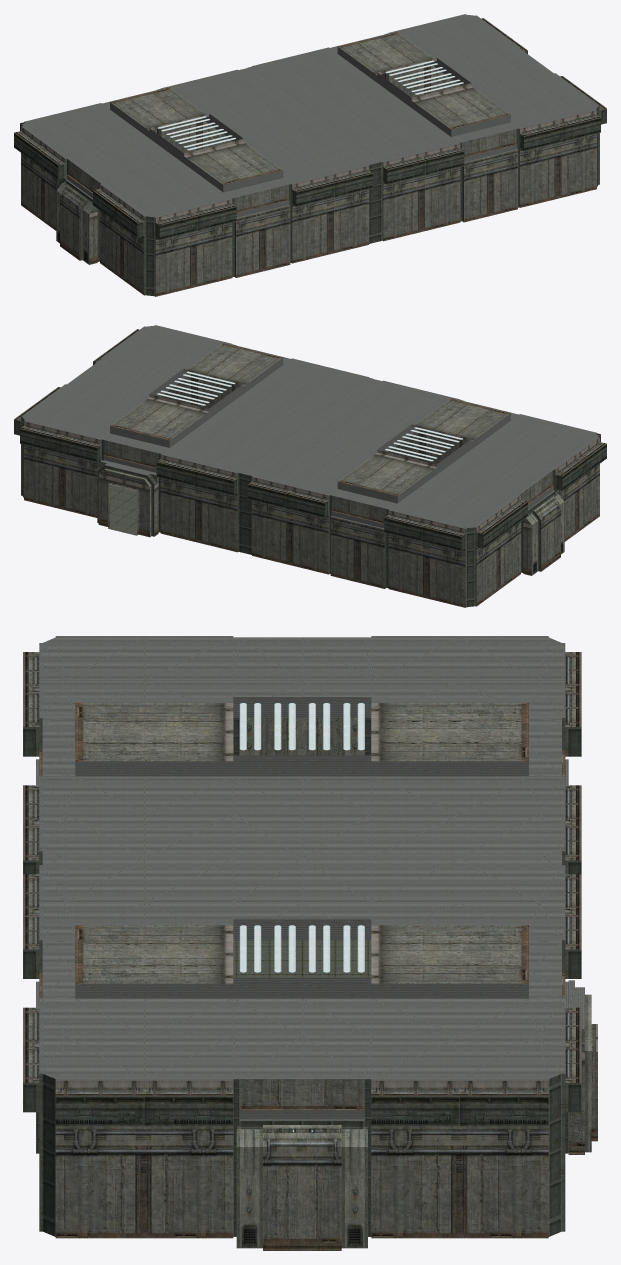
The model's file is poi_all_impl_bunker_crimelord_retreat_s01_r15_quarters01_mesh_r15.fbx.
3 views of the same model, one above another, from view 1: azimuth 30°, elevation 25°; view 2: azimuth 150°, elevation 25°; view 3: azimuth 270°, elevation 25° (orthographic). The views are drawn at different scales.
Visible parts, largest first — view 1: mesh_node; view 2: mesh_node; view 3: mesh_node.
Boxes of the visible parts, x1=… form: mesh_node: x1=14, y1=14, x2=606, y2=296; mesh_node: x1=14, y1=325, x2=606, y2=607; mesh_node: x1=23, y1=636, x2=597, y2=1250.
Size of the model in its own units: 33.8 by 6 by 17.5.
